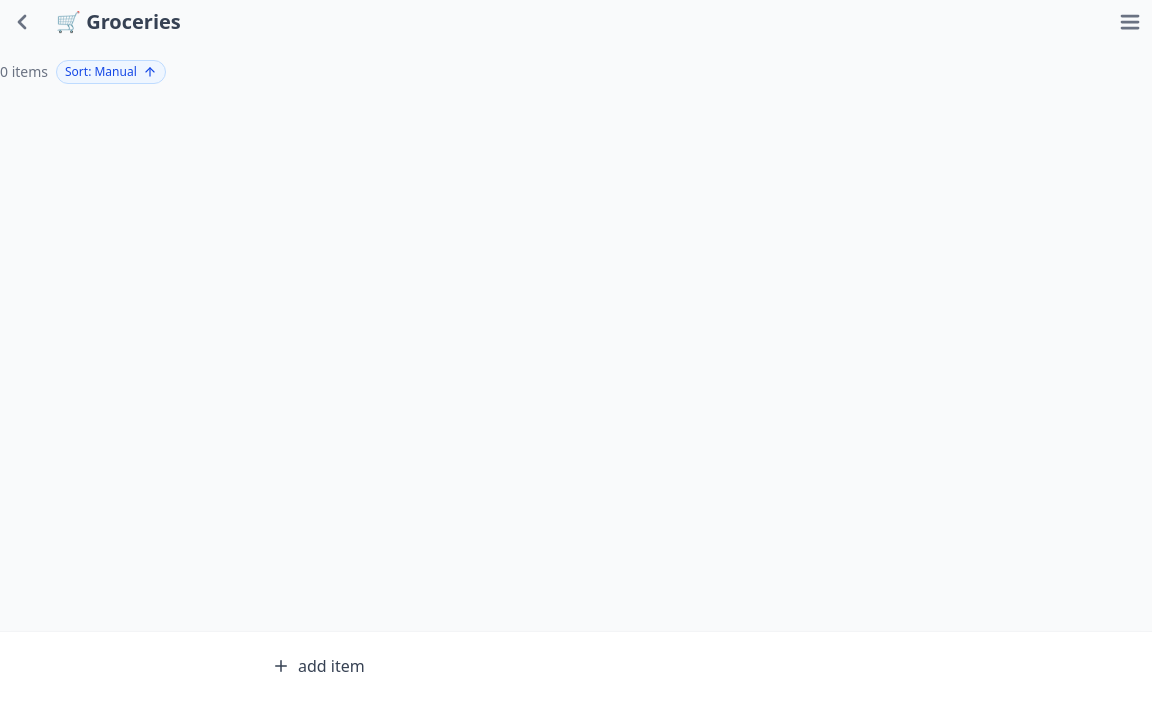
Test case: ListPage menu presentation › opens and cancels list deletion in an app dialog
The width and height of the screenshot is (1152, 720).
Click the button named "List options": (1130, 22) [1108,0,1151,44]
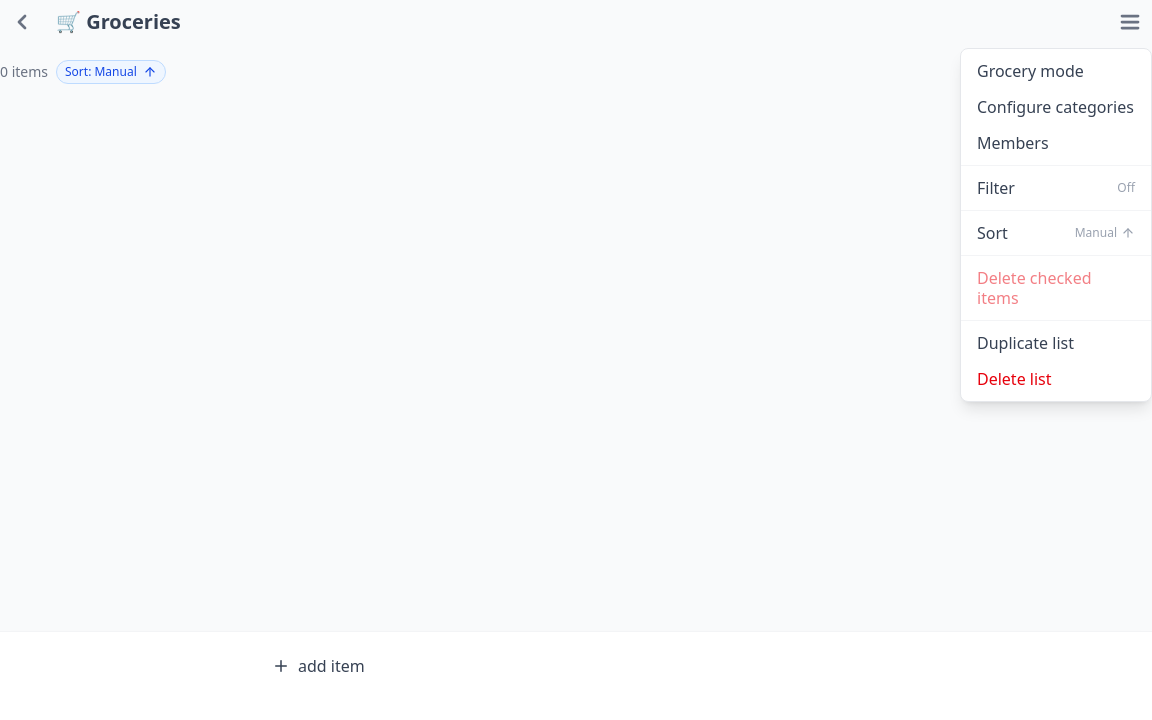
Click the button "Delete list": (1056, 379) [961,361,1151,397]
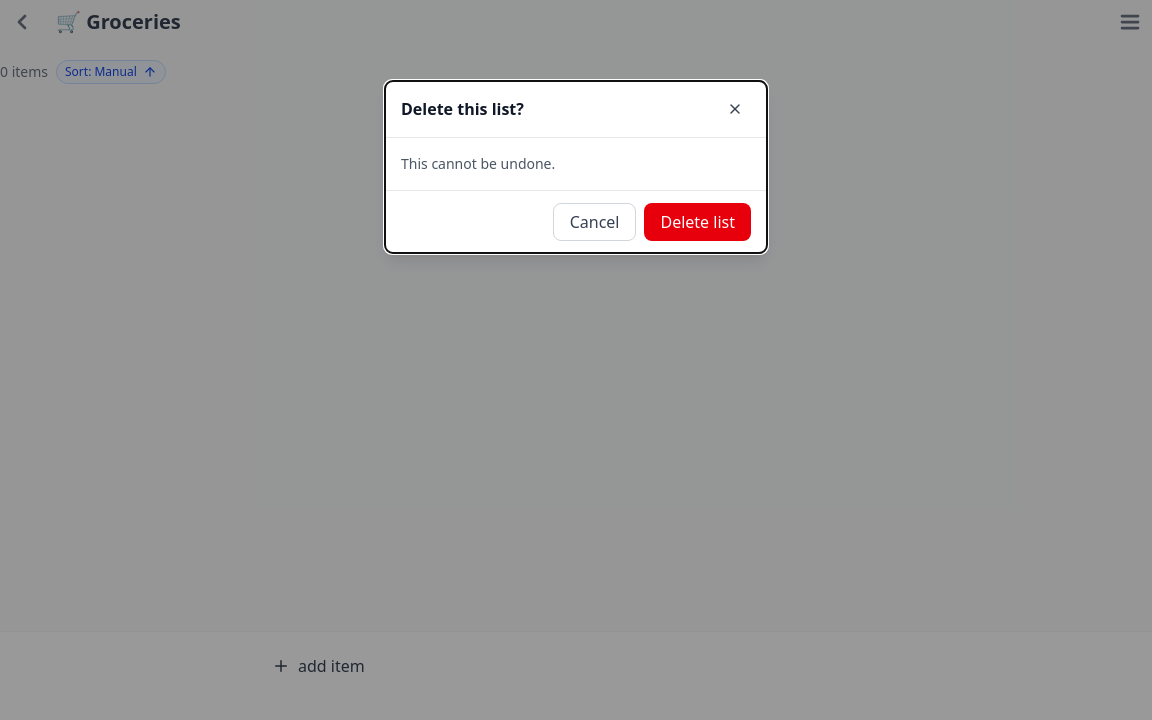
Check: the dialog "Delete this list?" shows "This cannot be undone.", box [401,154,555,173]
Click the button "Cancel": (595, 222) [553,203,636,241]
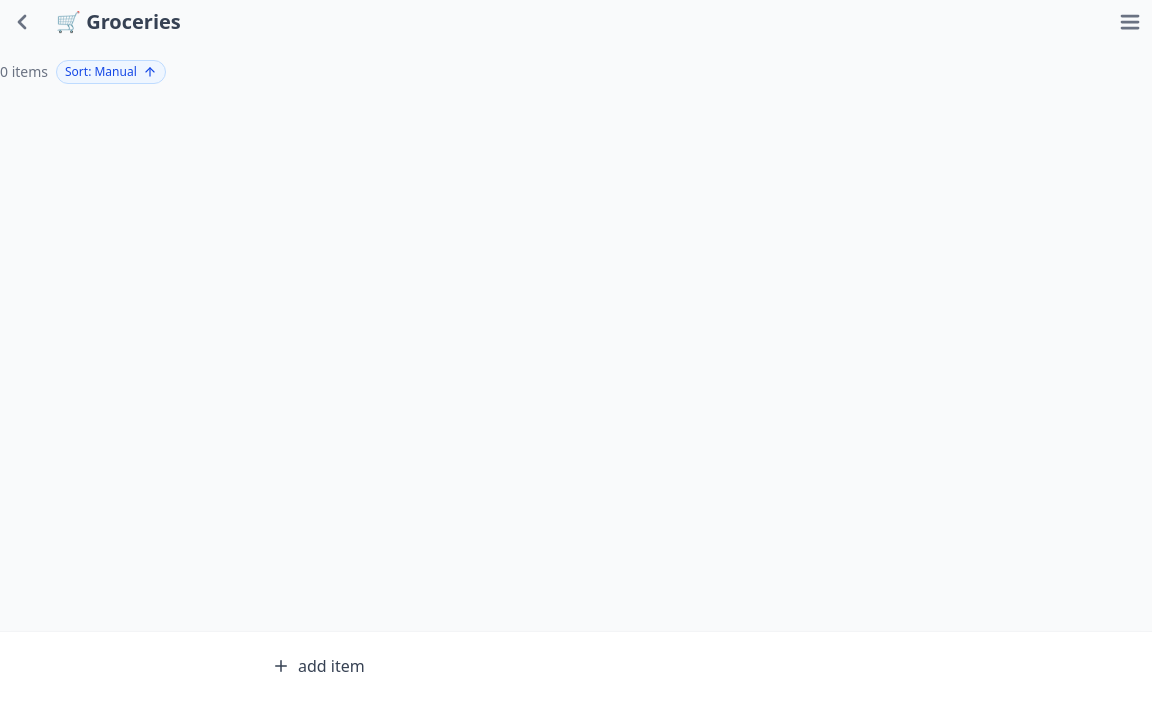
Check: the heading "Delete this list?" is gone
